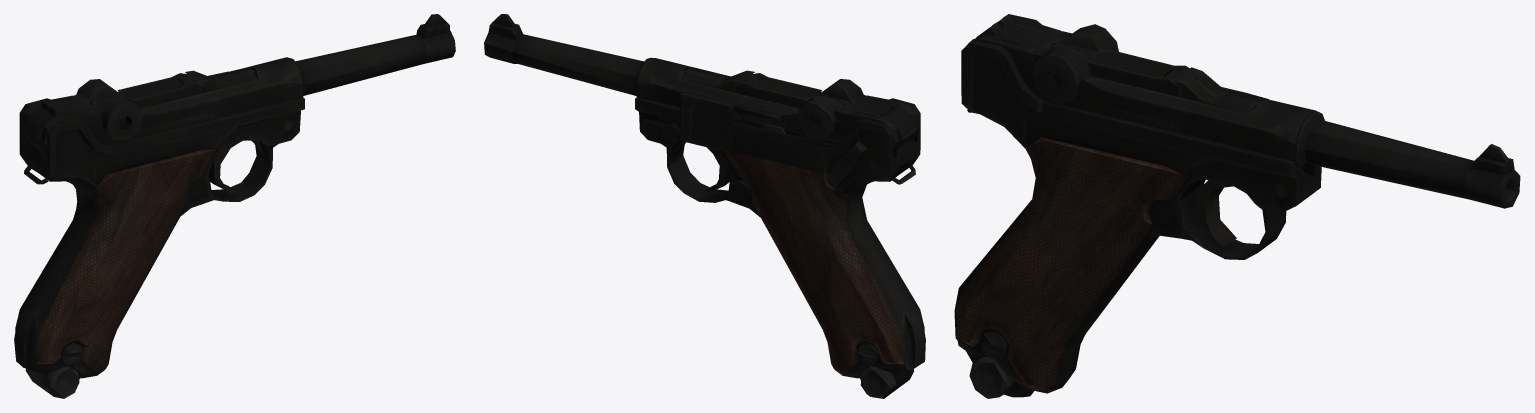
The model's file is luger.fbx.
3 views of the same model, side by side, from view 1: azimuth 30°, elevation 25°; view 2: azimuth 150°, elevation 25°; view 3: azimuth 330°, elevation 25° (orthographic). The views are drawn at different scales.
Parts seen in each view (by area): view 1: SMDImporter_Mesh_v_lugerp08_p08_reference; view 2: SMDImporter_Mesh_v_lugerp08_p08_reference; view 3: SMDImporter_Mesh_v_lugerp08_p08_reference.
Part boxes in pixels (x1=…): SMDImporter_Mesh_v_lugerp08_p08_reference: x1=14, y1=14, x2=455, y2=398; SMDImporter_Mesh_v_lugerp08_p08_reference: x1=484, y1=14, x2=925, y2=398; SMDImporter_Mesh_v_lugerp08_p08_reference: x1=954, y1=14, x2=1520, y2=398.
Bounding box in the file's own units: 147 × 93.46 × 21.2.
Materials: 1 (1 with a texture image).
